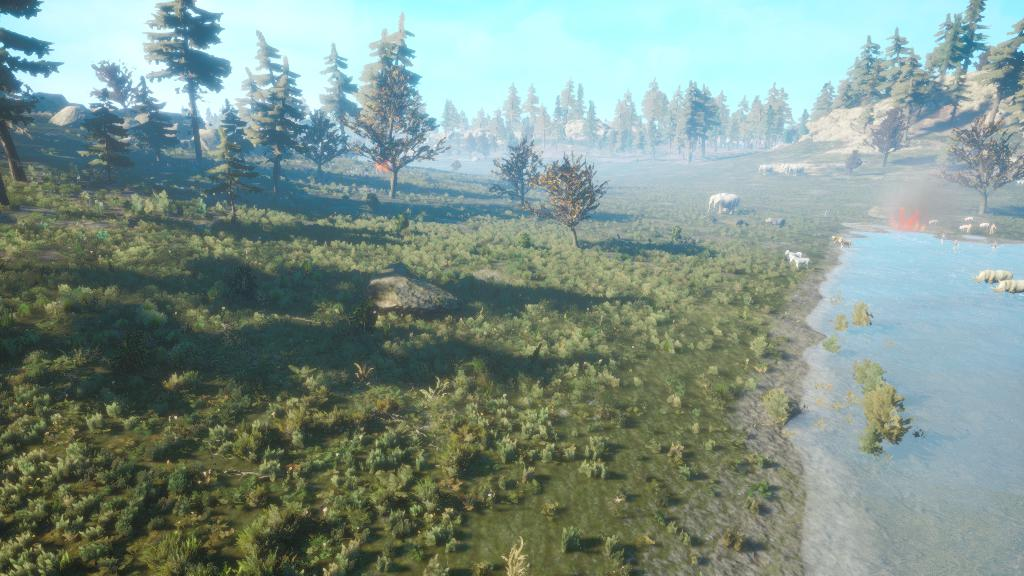Fire: (889, 207, 936, 232), (369, 158, 400, 178)
elephant: (704, 183, 753, 222)
lion: (826, 226, 853, 254)
pig: (954, 213, 999, 239)
rhinoceros: (968, 260, 1021, 288)
zebra: (785, 242, 818, 276)
